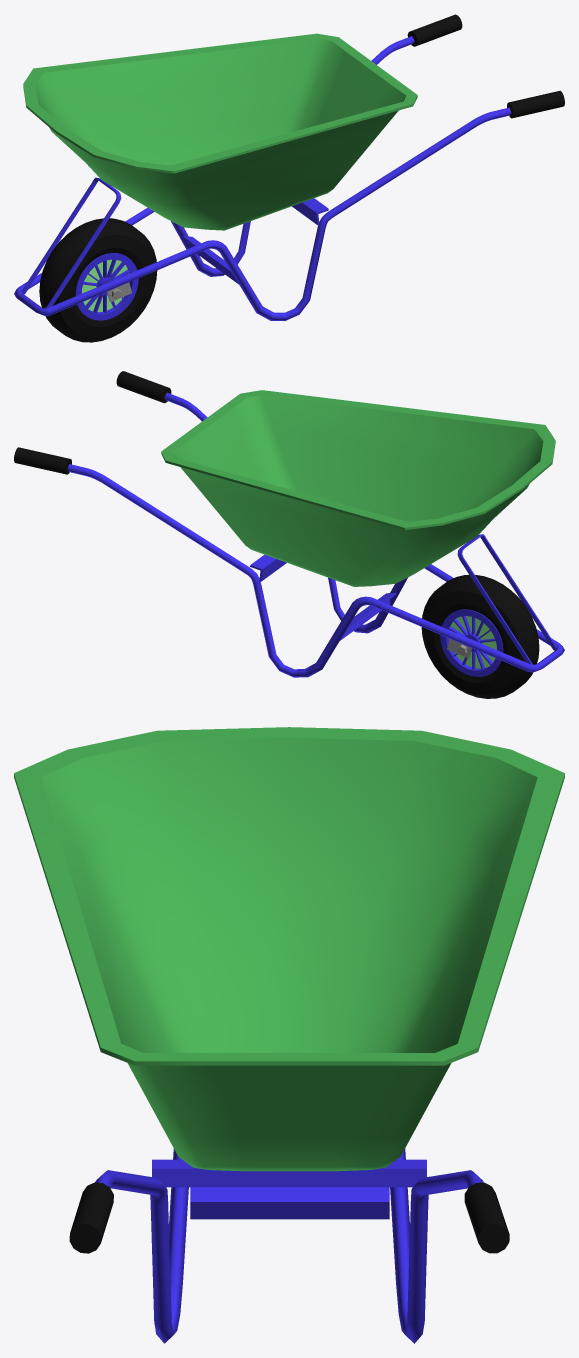
The model's file is carretilla.FBX.
3 views of the same model, one above another, from view 1: azimuth 30°, elevation 25°; view 2: azimuth 150°, elevation 25°; view 3: azimuth 270°, elevation 25° (orthographic). The views are drawn at different scales.
Visible parts, largest first — view 1: nueva, Tire, Arms/Leg Line, Brace Line, Hub 02, Left Handle002, Left Handle01, Spokes 02, Cylinder003, Brace 02, Brace 01; view 2: nueva, Tire, Arms/Leg Line, Brace Line, Hub 02, Left Handle01, Left Handle002, Cylinder003, Spokes 02, Brace 02, Brace 01; view 3: nueva, Arms/Leg Line, Brace 02, Brace 01, Left Handle01, Left Handle002.
Part boxes in pixels (box(x1,y1,x2,y2)): nueva: box(23, 33, 417, 230); Tire: box(39, 218, 157, 342); Arms/Leg Line: box(14, 36, 511, 321); Brace Line: box(21, 177, 121, 308); Hub 02: box(75, 253, 138, 320); Left Handle002: box(507, 90, 564, 118); Left Handle01: box(407, 14, 462, 46); Spokes 02: box(83, 259, 130, 313); Cylinder003: box(81, 259, 129, 312); Brace 02: box(182, 236, 238, 284); Brace 01: box(292, 198, 328, 225); nueva: box(161, 390, 555, 586); Tire: box(421, 574, 539, 698); Arms/Leg Line: box(67, 392, 564, 677); Brace Line: box(457, 534, 557, 664); Hub 02: box(440, 609, 503, 676); Left Handle01: box(14, 447, 71, 474); Left Handle002: box(116, 371, 171, 403); Cylinder003: box(449, 616, 496, 668); Spokes 02: box(448, 616, 495, 669); Brace 02: box(340, 592, 396, 640); Brace 01: box(250, 554, 286, 581); nueva: box(14, 727, 564, 1171); Arms/Leg Line: box(95, 1148, 483, 1343); Brace 02: box(190, 1187, 389, 1219); Brace 01: box(152, 1159, 426, 1187); Left Handle01: box(464, 1182, 509, 1253); Left Handle002: box(69, 1182, 113, 1253).
Size of the model in its own units: 61.75 by 26.54 by 31.07.
